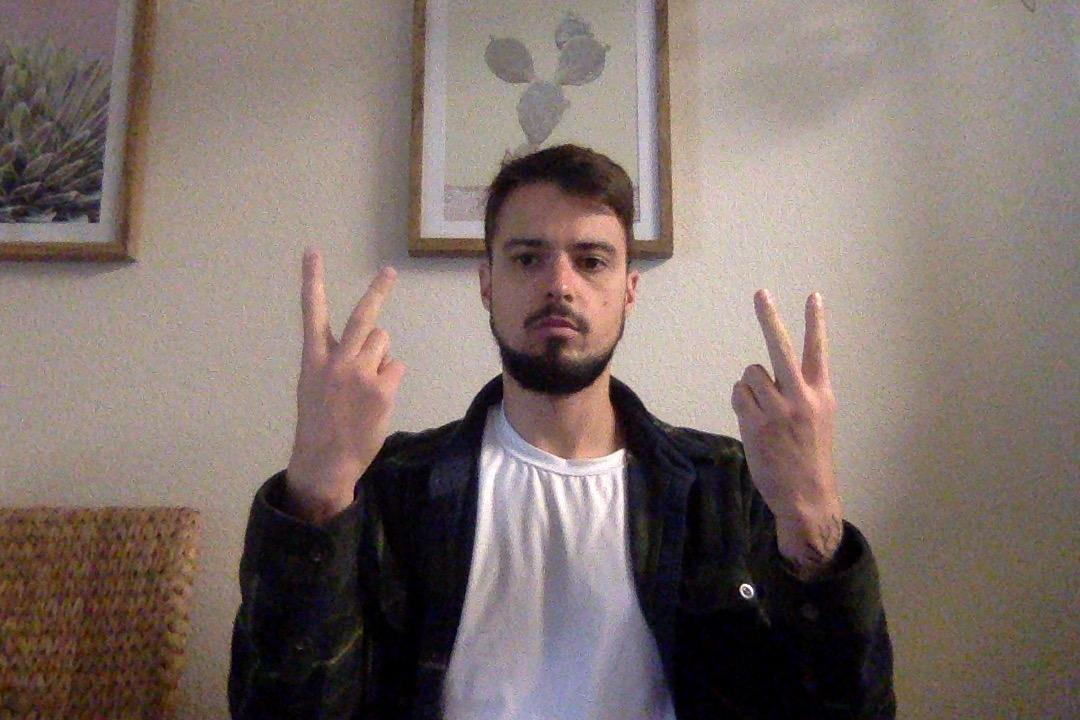Peace: (265, 245, 410, 489), (717, 290, 853, 542)
